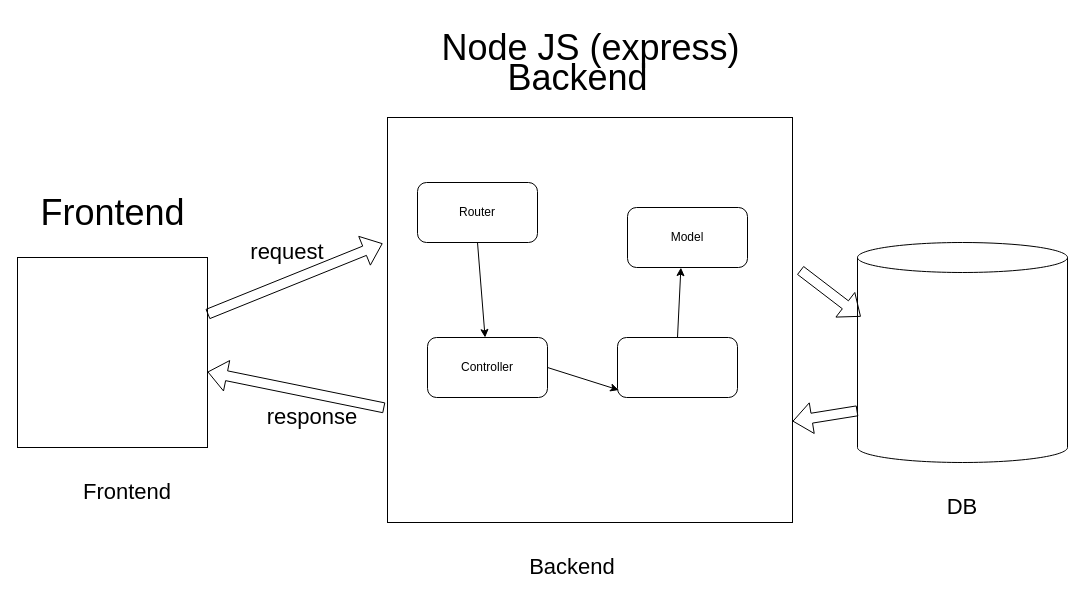
The diagram is 1085 pixels wide and 614 high, and some of its shapes have lost their labels. Each missing label, with the centre of its shape:
Base de datos: (x=962, y=352)
Service: (x=677, y=367)
